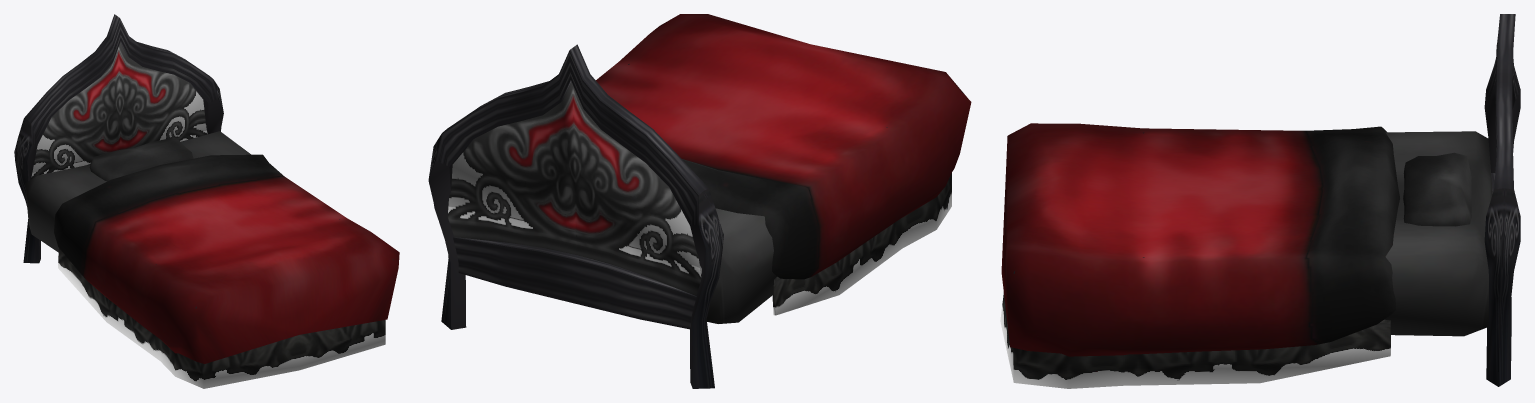
Rendered from VictorianBed_HD.fbx.
3 renders of one model, left to right at view 1: azimuth 30°, elevation 25°; view 2: azimuth 150°, elevation 25°; view 3: azimuth 270°, elevation 25°, orthographic. The views are drawn at different scales.
Visible parts, largest first — view 1: VictorianBed; view 2: VictorianBed; view 3: VictorianBed.
Part boxes in pixels (x1,y1,x2,y2): VictorianBed: (14,14,399,388); VictorianBed: (428,14,971,388); VictorianBed: (1000,14,1520,388).
Bounding box in the file's own units: 1.33 × 1.27 × 1.94.
